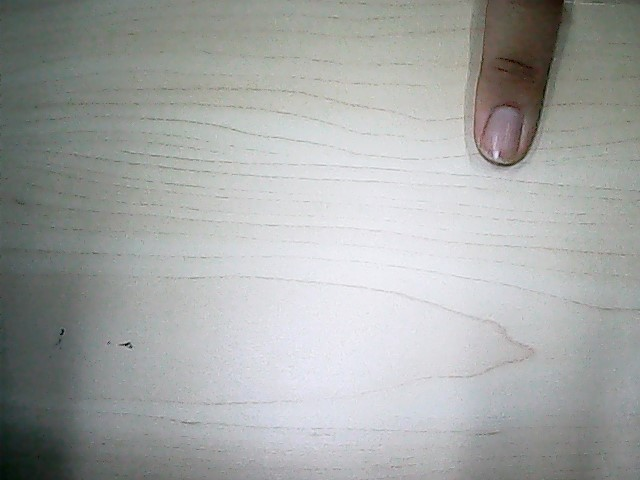nail: (486, 105, 517, 165)
